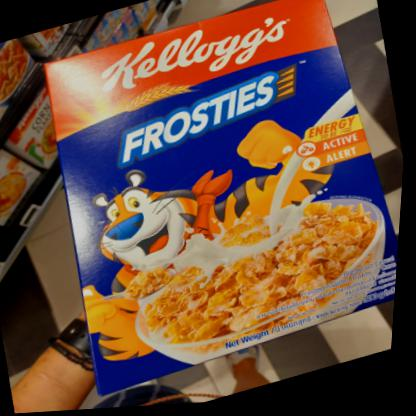i: (19, 0, 415, 404)
